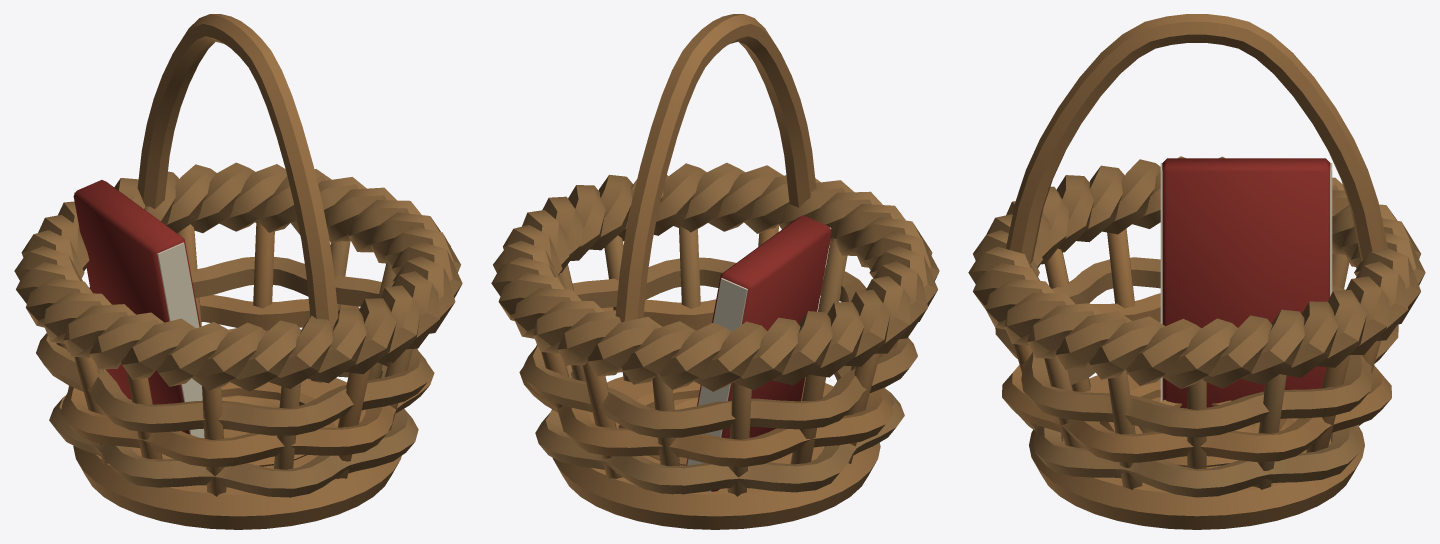
Rendered from library_basket_1.glb.
3 renders of one model, left to right at view 1: azimuth 30°, elevation 25°; view 2: azimuth 150°, elevation 25°; view 3: azimuth 270°, elevation 25°, orthographic.
Parts seen in each view (by area): view 1: Sammel Stoff, Sammel Lack; view 2: Sammel Stoff, Sammel Lack; view 3: Sammel Stoff, Sammel Lack.
Boxes of the visible parts, x1,y1,x2,y2 form: Sammel Stoff: (14,14,462,529); Sammel Lack: (74,192,204,438); Sammel Stoff: (491,14,939,529); Sammel Lack: (687,227,831,492); Sammel Stoff: (968,14,1425,529); Sammel Lack: (1160,163,1332,401).
Size of the model in its own units: 0.185 by 0.1998 by 0.185.
